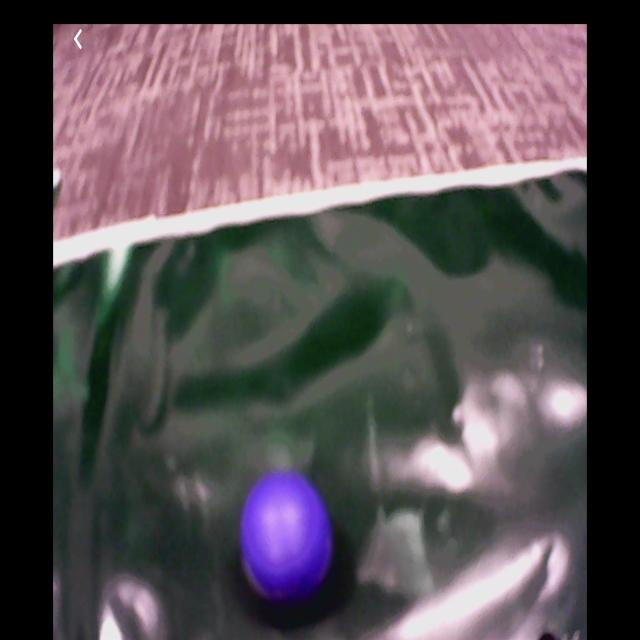ball: (241, 471, 332, 607)
